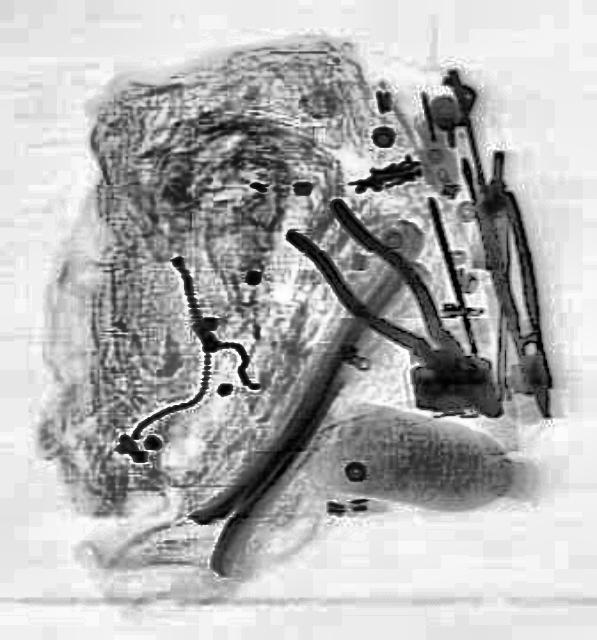Pliers: (278, 185, 526, 441)
